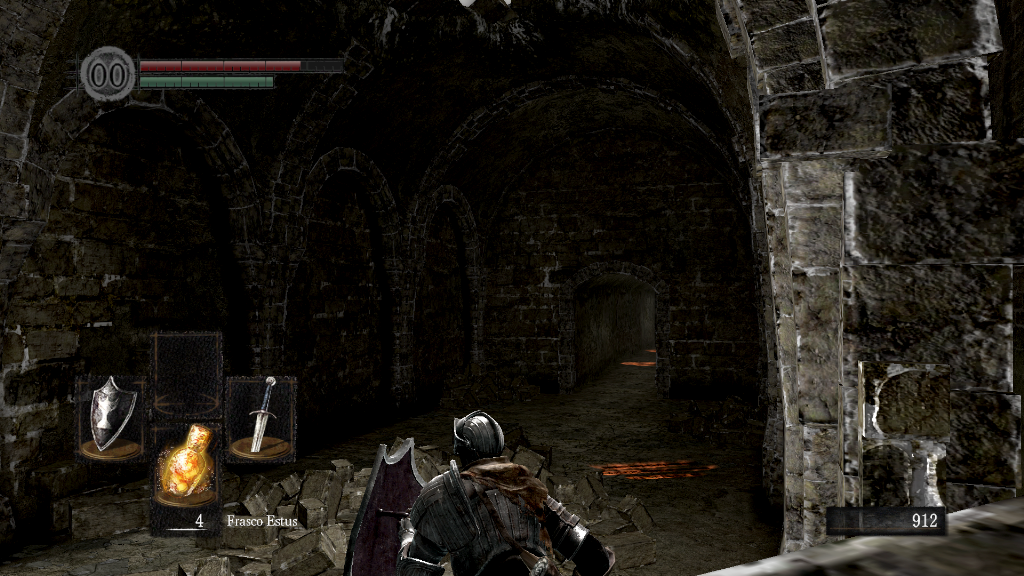health: (138, 58, 343, 71)
humanity: (80, 45, 136, 102)
player: (345, 410, 617, 576)
souls: (825, 506, 945, 536)
stamina: (138, 74, 274, 88)
